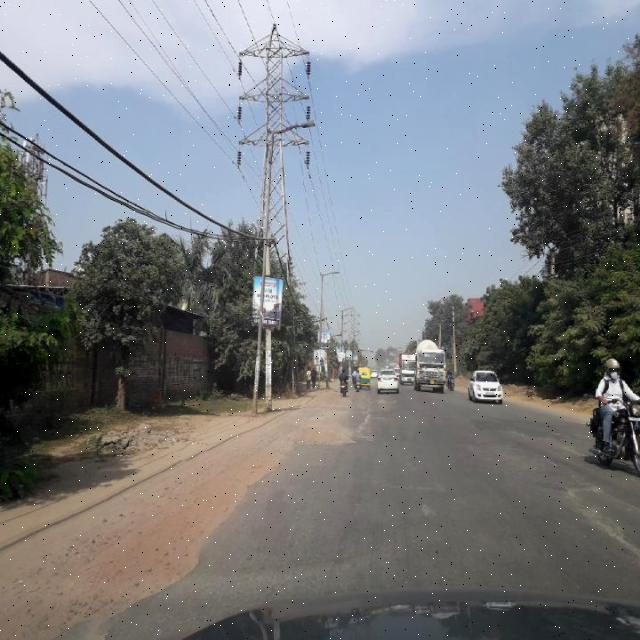D00: (84, 553, 202, 635), (204, 439, 290, 549)
D40: (118, 536, 204, 599), (291, 404, 357, 452)
